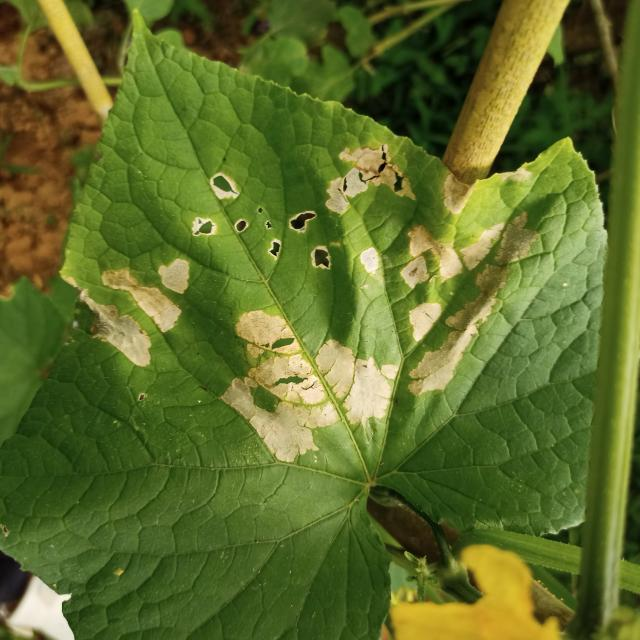disease_cucumber: (64, 143, 540, 462)
